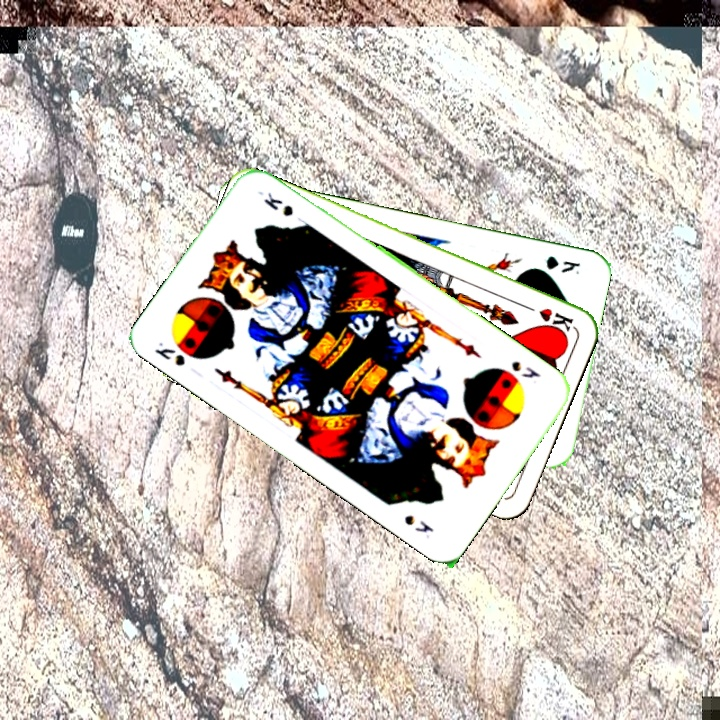GK: (542, 252, 582, 276)
HK: (518, 300, 576, 335)
SK: (150, 337, 188, 369), (507, 356, 544, 381)
